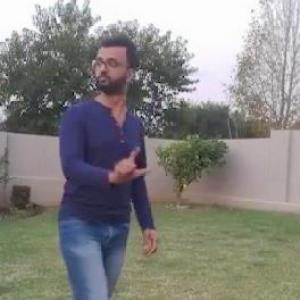land_hand: (110, 140, 157, 188)
